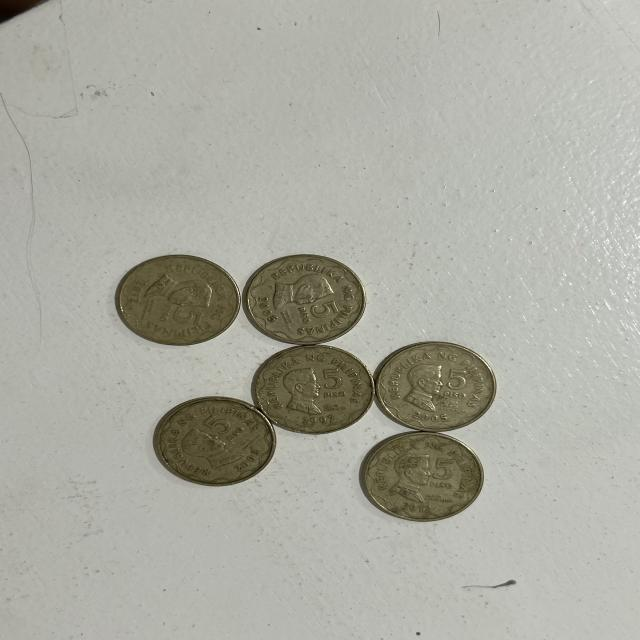5_Old_Front: (154, 298, 216, 337), (192, 408, 245, 448), (434, 361, 468, 413), (293, 298, 341, 334), (425, 450, 456, 496), (315, 365, 345, 400)
